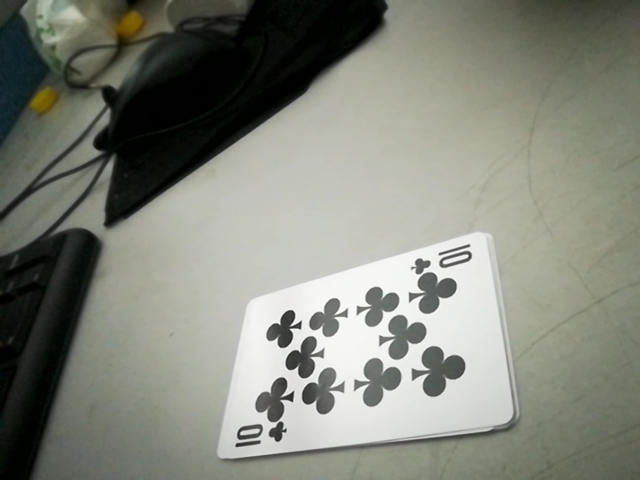mh 10: (226, 418, 297, 459), (412, 239, 487, 274)
